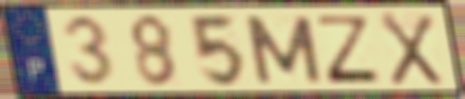3: (61, 13, 118, 89)
5: (186, 12, 249, 88)
8: (128, 12, 181, 89)
M: (240, 14, 326, 86)
X: (376, 10, 445, 87)
Z: (315, 13, 385, 85)
